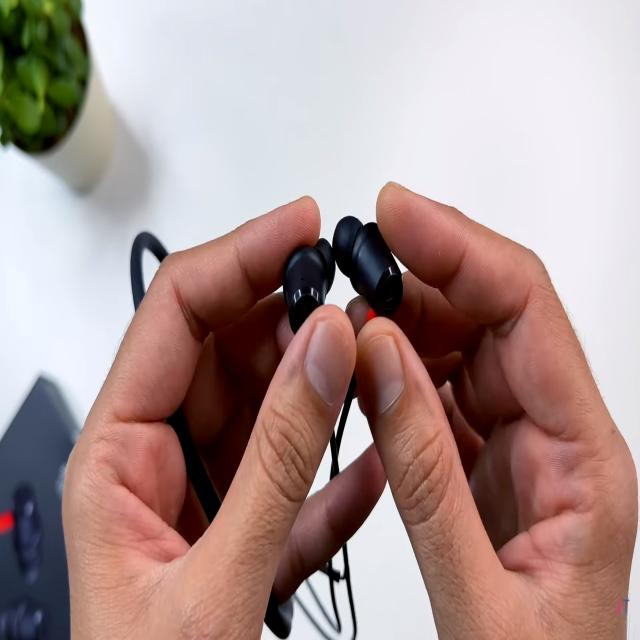Neckband: (128, 214, 404, 640)
